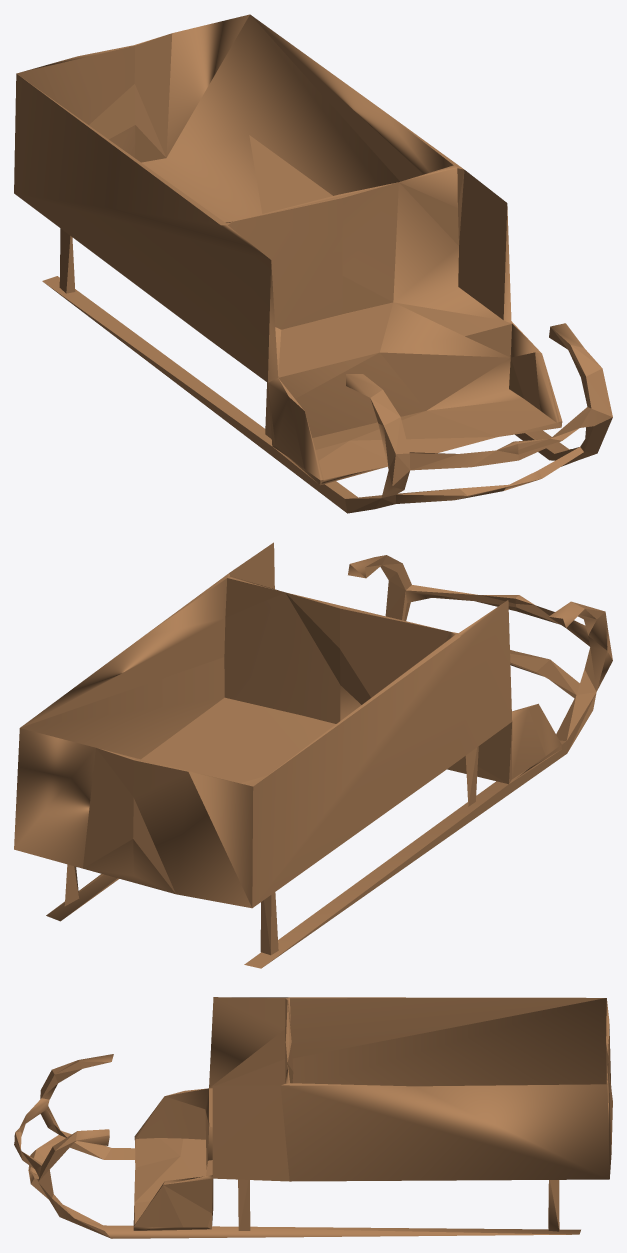
File: sled1.fbx
The picture shows the model from 3 angles, top to bottom: view 1: azimuth 30°, elevation 25°; view 2: azimuth 150°, elevation 25°; view 3: azimuth 270°, elevation 25°; orthographic projection. The views are drawn at different scales.
Visible parts, largest first — view 1: Cube; view 2: Cube; view 3: Cube.
Part boxes in pixels (x1,y1,x2,y2): Cube: [14, 14, 612, 513]; Cube: [14, 542, 612, 968]; Cube: [14, 997, 612, 1238].
Bounding box in the file's own units: 154 × 125 × 426.
